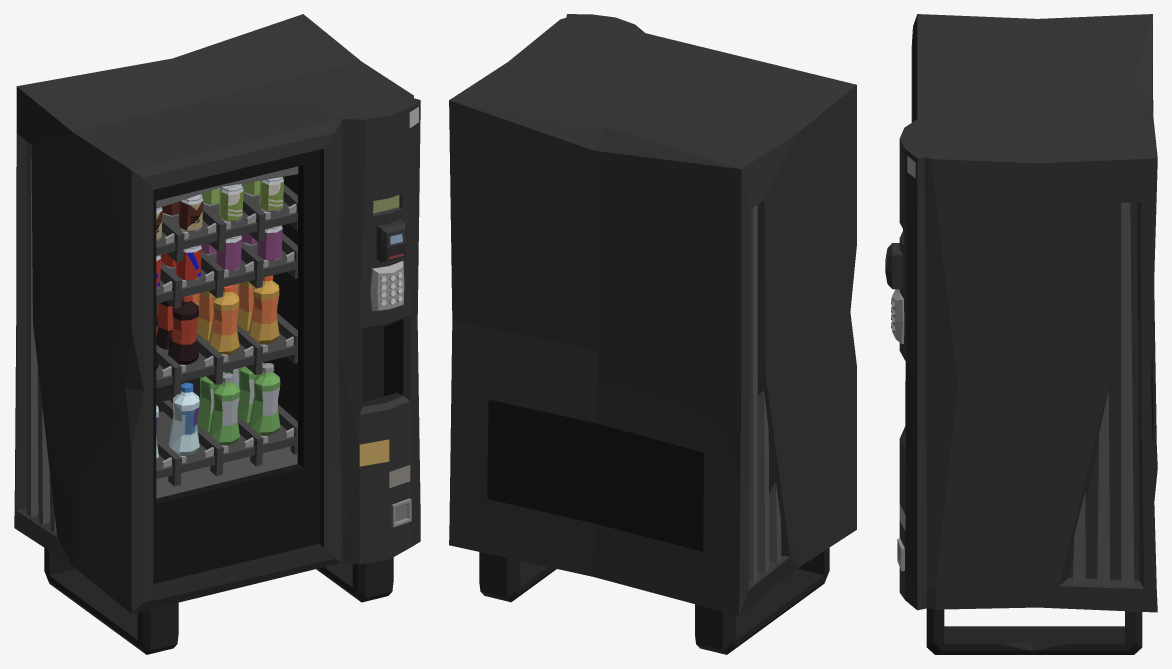
File: SM_Prop_Vending_Machine_01.obj
The picture shows the model from 3 angles, left to right: view 1: azimuth 30°, elevation 25°; view 2: azimuth 150°, elevation 25°; view 3: azimuth 270°, elevation 25°; orthographic projection. The views are drawn at different scales.
Visible parts, largest first — view 1: SM_Prop_Vending_Machine_01_0; view 2: SM_Prop_Vending_Machine_01_0; view 3: SM_Prop_Vending_Machine_01_0.
Part boxes in pixels (bbox=[...]): SM_Prop_Vending_Machine_01_0: bbox=[14, 14, 420, 654]; SM_Prop_Vending_Machine_01_0: bbox=[449, 14, 856, 654]; SM_Prop_Vending_Machine_01_0: bbox=[885, 14, 1157, 654].
Size of the model in its own units: 1.29 by 2.1 by 1.02.
Materials: 1 (1 with a texture image).
